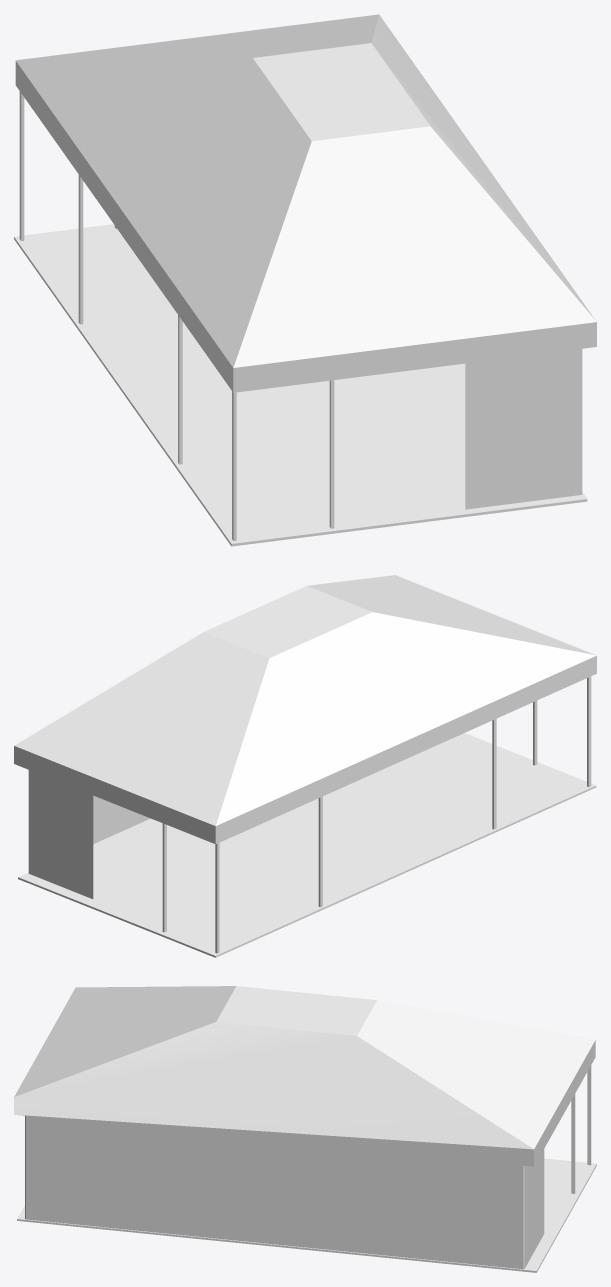
File: tent.gltf
The picture shows the model from 3 angles, top to bottom: view 1: azimuth 30°, elevation 25°; view 2: azimuth 150°, elevation 25°; view 3: azimuth 270°, elevation 25°; orthographic projection. The views are drawn at different scales.
Visible parts, largest first — view 1: Object006; view 2: Object006; view 3: Object006.
Part boxes in pixels (left/top/right/bottom): Object006: left=14, top=14, right=596, bottom=546; Object006: left=14, top=575, right=596, bottom=957; Object006: left=14, top=986, right=596, bottom=1272.
Size of the model in its own units: 7.16 by 4 by 10.88.
Materials: 1 (1 with a texture image).
